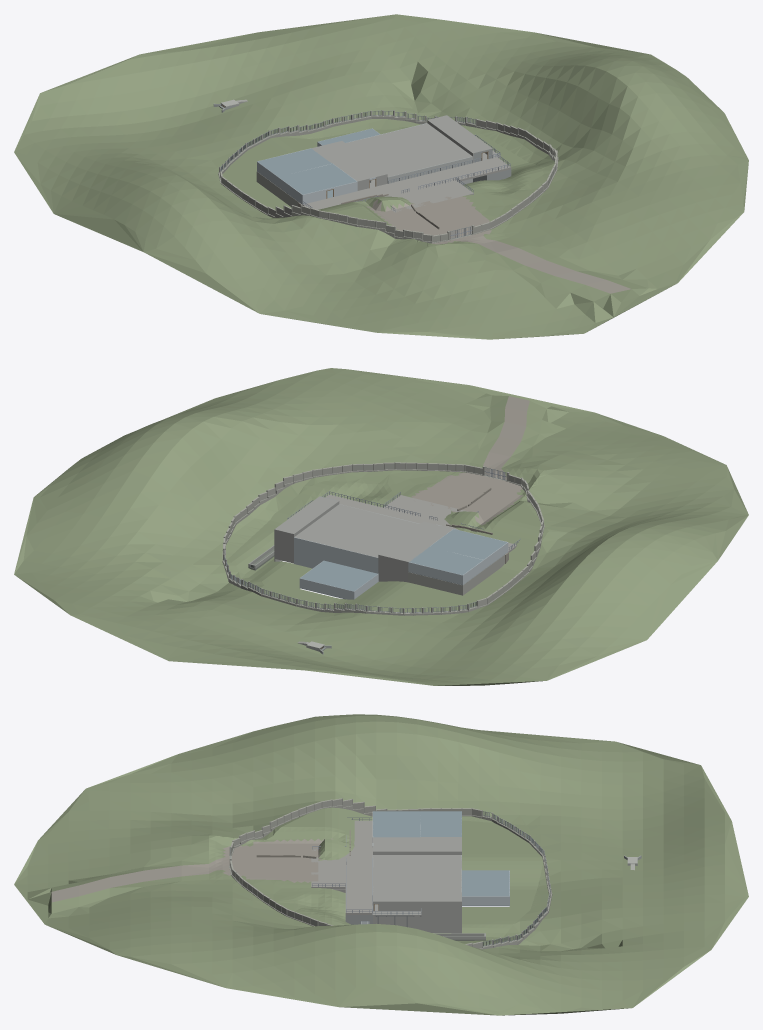
File: dam-with-carrier.glb
The picture shows the model from 3 angles, top to bottom: view 1: azimuth 30°, elevation 25°; view 2: azimuth 150°, elevation 25°; view 3: azimuth 270°, elevation 25°; orthographic projection. The views are drawn at different scales.
Parts seen in each view (by area): view 1: Blackwater joined valley terrain at intake bench, Blackwater saved ground with road surface at receiving bench, WLD-09 turbine enclosed roof region0, WLD-09 complete structural crest deck region0, WLD-09 west hall enclosed roof region0, Ceiling cap control, Ceiling cap office, Blackwater tied boundary piers, WLD-09 complete bridge arrival forecourt region0, WLD-09 east hall enclosed roof region0; view 2: Blackwater joined valley terrain at intake bench, Blackwater saved ground with road surface at receiving bench, WLD-09 turbine enclosed roof region0, WLD-09 west hall enclosed roof region0, Ceiling cap plant, Ceiling cap control, Blackwater tied boundary piers, Flat route shell Wall turbine N.001, Ceiling cap office, WLD-09 complete bridge arrival forecourt region0, WLD-09 east hall enclosed roof region0, WLD-09 complete structural crest deck region0 (+4 smaller); view 3: Blackwater joined valley terrain at intake bench, Blackwater saved ground with road surface at receiving bench, WLD-09 turbine enclosed roof region0, WLD-09 complete structural crest deck region0, WLD-09 hall E pier0 region0, WLD-09 west hall enclosed roof region0, Ceiling cap control, Ceiling cap plant, Ceiling cap office, WLD-09 east hall enclosed roof region0, WLD-09 complete bridge arrival forecourt region0, Blackwater tied boundary piers.
Part boxes in pixels (left/top/right/bottom): Blackwater joined valley terrain at intake bench: left=14, top=14, right=748, bottom=339; Blackwater saved ground with road surface at receiving bench: left=212, top=127, right=543, bottom=245; WLD-09 turbine enclosed roof region0: left=345, top=123, right=472, bottom=176; WLD-09 complete structural crest deck region0: left=302, top=157, right=511, bottom=209; WLD-09 west hall enclosed roof region0: left=312, top=141, right=386, bottom=182; Ceiling cap control: left=278, top=163, right=356, bottom=194; Ceiling cap office: left=257, top=148, right=332, bottom=176; Blackwater tied boundary piers: left=219, top=110, right=557, bottom=243; WLD-09 complete bridge arrival forecourt region0: left=392, top=180, right=473, bottom=212; WLD-09 east hall enclosed roof region0: left=427, top=115, right=492, bottom=153; Blackwater joined valley terrain at intake bench: left=14, top=368, right=748, bottom=685; Blackwater saved ground with road surface at receiving bench: left=228, top=462, right=548, bottom=622; WLD-09 turbine enclosed roof region0: left=295, top=504, right=419, bottom=557; WLD-09 west hall enclosed roof region0: left=378, top=521, right=452, bottom=562; Ceiling cap plant: left=300, top=560, right=377, bottom=591; Ceiling cap control: left=429, top=529, right=506, bottom=559; Blackwater tied boundary piers: left=222, top=462, right=544, bottom=615; Flat route shell Wall turbine N.001: left=294, top=537, right=348, bottom=567; Ceiling cap office: left=409, top=547, right=482, bottom=575; WLD-09 complete bridge arrival forecourt region0: left=384, top=495, right=468, bottom=523; WLD-09 east hall enclosed roof region0: left=274, top=496, right=339, bottom=534; WLD-09 complete structural crest deck region0: left=325, top=494, right=516, bottom=552; Blackwater joined valley terrain at intake bench: left=14, top=714, right=748, bottom=1015; Blackwater saved ground with road surface at receiving bench: left=209, top=807, right=542, bottom=945; WLD-09 turbine enclosed roof region0: left=373, top=855, right=461, bottom=892; WLD-09 complete structural crest deck region0: left=345, top=820, right=372, bottom=914; WLD-09 hall E pier0 region0: left=378, top=901, right=461, bottom=929; WLD-09 west hall enclosed roof region0: left=373, top=837, right=461, bottom=852; Ceiling cap control: left=373, top=811, right=420, bottom=837; Ceiling cap plant: left=462, top=870, right=509, bottom=896; Ceiling cap office: left=420, top=811, right=461, bottom=836; WLD-09 east hall enclosed roof region0: left=373, top=892, right=461, bottom=902; WLD-09 complete bridge arrival forecourt region0: left=311, top=849, right=345, bottom=888; Blackwater tied boundary piers: left=230, top=798, right=551, bottom=947.
Bounding box in the file's own units: 200 × 25.8 × 215.
88 materials, 47 textured.
